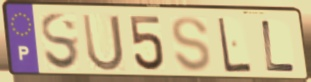5: (127, 15, 167, 73)
L: (216, 15, 254, 74), (260, 18, 298, 73)
S: (38, 11, 82, 73), (170, 15, 213, 75)
U: (80, 12, 127, 74)
